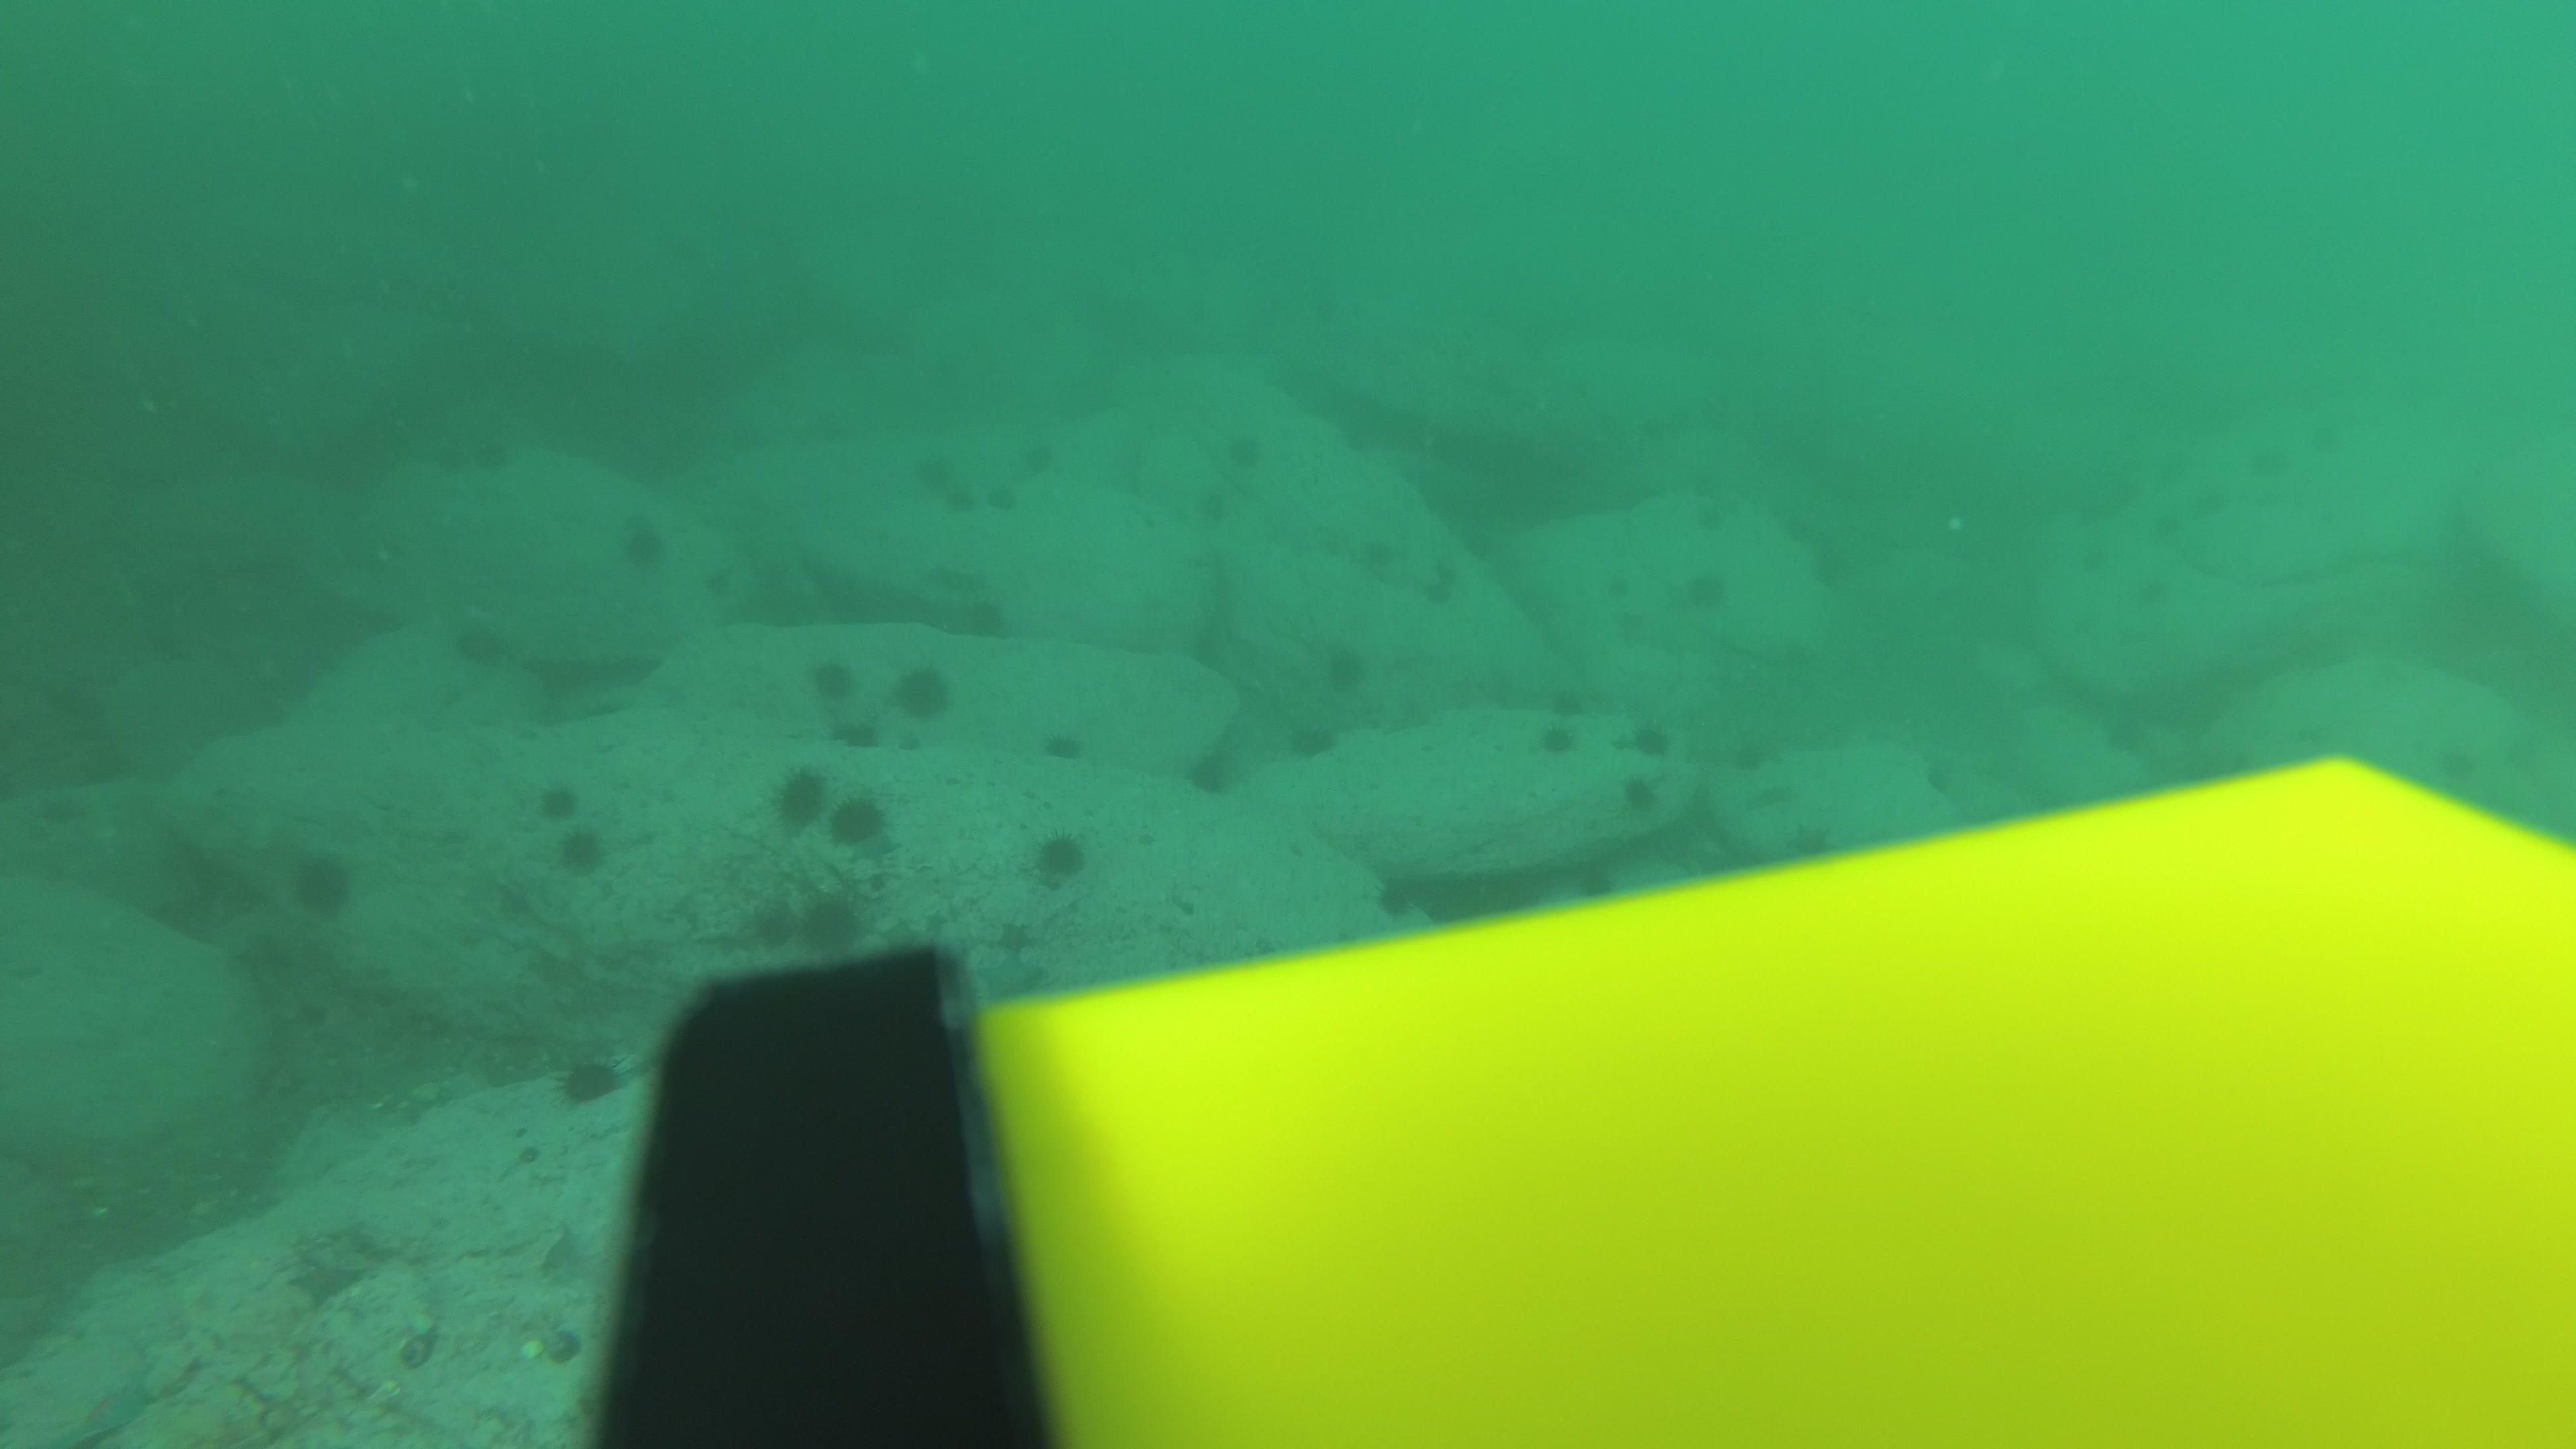echinus: (287, 846, 357, 918), (550, 1044, 625, 1109), (748, 890, 823, 950), (775, 763, 835, 828), (796, 890, 860, 950), (893, 658, 952, 720), (448, 614, 510, 672), (830, 791, 886, 847), (1182, 741, 1238, 798), (616, 511, 669, 571), (1031, 828, 1088, 883), (1373, 867, 1430, 922), (556, 824, 607, 876), (1322, 639, 1369, 694), (1681, 564, 1730, 614), (538, 777, 586, 828), (1284, 717, 1338, 763), (809, 653, 856, 702), (1532, 717, 1580, 761), (1626, 717, 1674, 761), (1541, 678, 1589, 722), (1605, 607, 1652, 651), (1596, 564, 1644, 609), (1718, 731, 1766, 775), (1575, 863, 1622, 908), (1619, 771, 1661, 816), (1042, 724, 1086, 764), (472, 441, 511, 474), (435, 444, 474, 476), (911, 458, 948, 490), (1196, 490, 1233, 522), (1230, 435, 1267, 467), (938, 488, 975, 518), (980, 485, 1017, 515), (1016, 448, 1053, 478), (1366, 538, 1403, 568), (1341, 425, 1378, 455), (847, 724, 883, 752), (1691, 472, 1727, 501), (1698, 508, 1732, 536), (826, 720, 856, 743)
holothurian: (1748, 782, 1796, 812)
starfish: (50, 1371, 159, 1444), (283, 1238, 370, 1306), (994, 916, 1037, 961), (1790, 819, 1833, 858)
